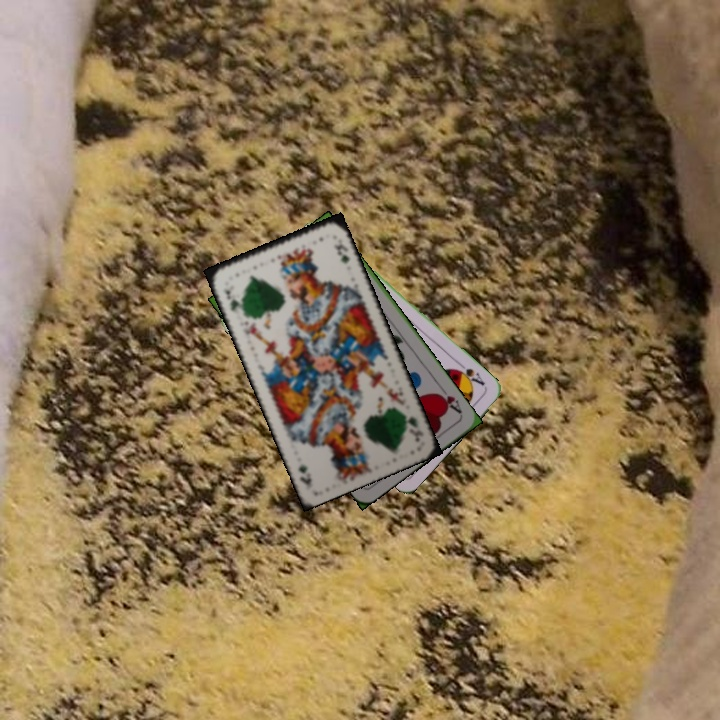GK: (398, 408, 423, 444), (221, 286, 246, 316)
HA: (432, 382, 465, 417)
SA: (451, 358, 488, 388)
